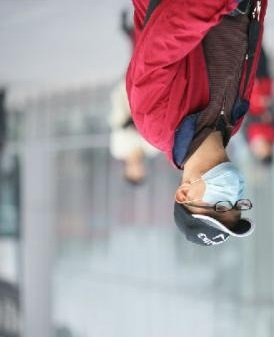person: (127, 1, 274, 248), (105, 72, 166, 188), (242, 45, 274, 167)
